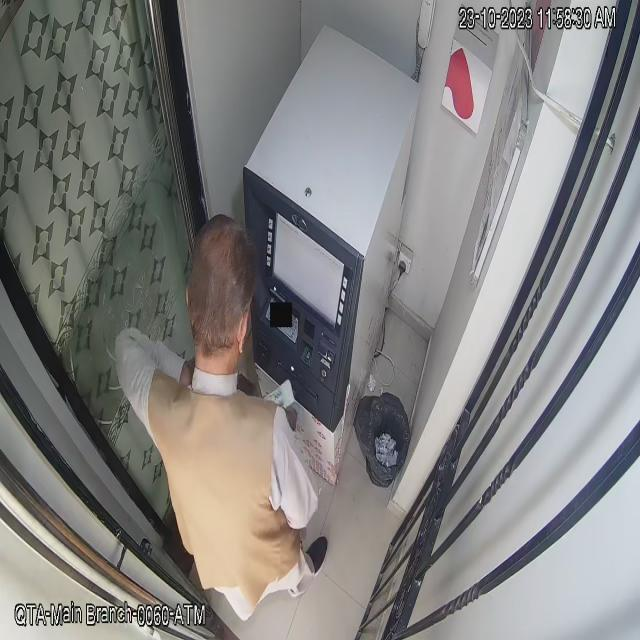note: (256, 371, 302, 416)
